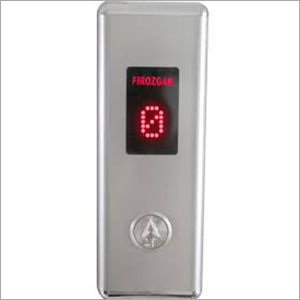up: (129, 211, 173, 252)
